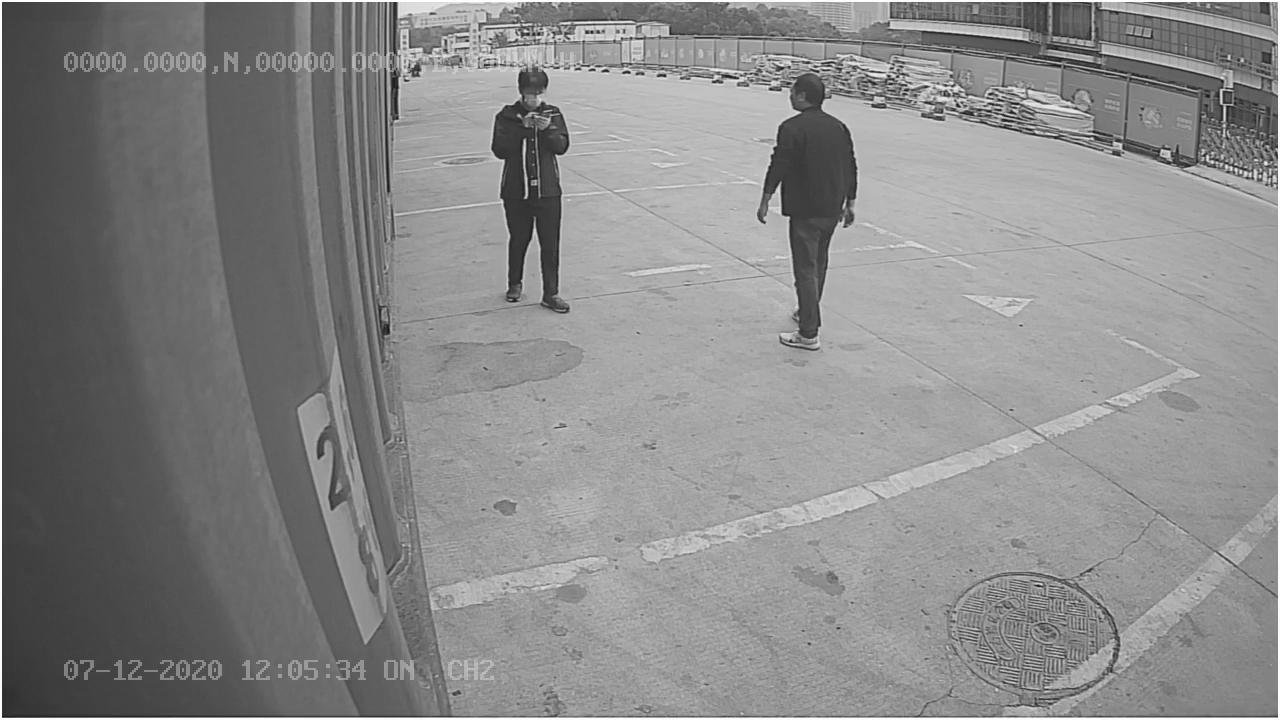person: (756, 70, 866, 354), (488, 62, 574, 313)
